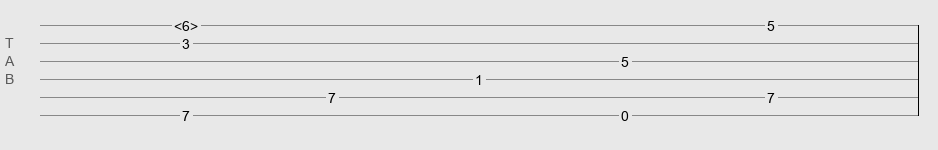0: (621, 108, 629, 118)
1: (475, 72, 483, 82)
3: (182, 36, 190, 46)
5: (621, 54, 629, 64), (767, 18, 775, 28)
7: (182, 108, 190, 118), (328, 90, 336, 100), (767, 90, 775, 100)
harmonic: (174, 18, 198, 28)
